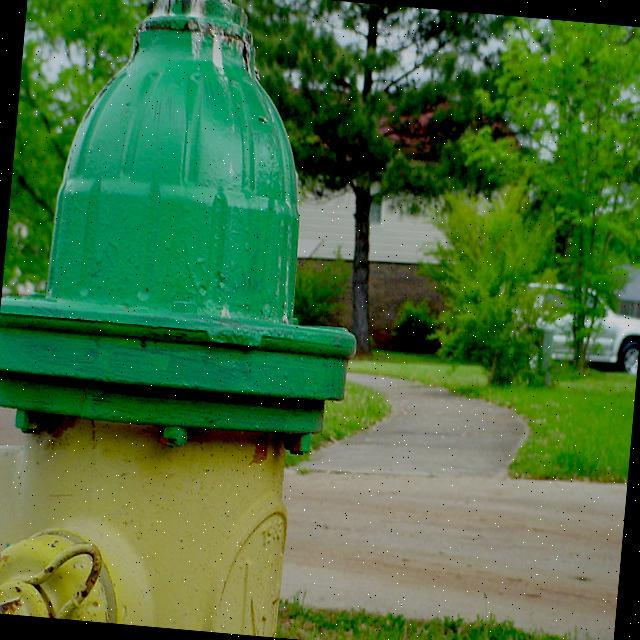fire_hydrant: (0, 0, 389, 632)
